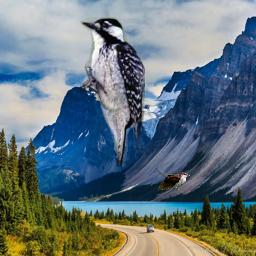Cuckoo: (158, 160, 190, 191)
Woodpecker: (80, 17, 145, 167)
